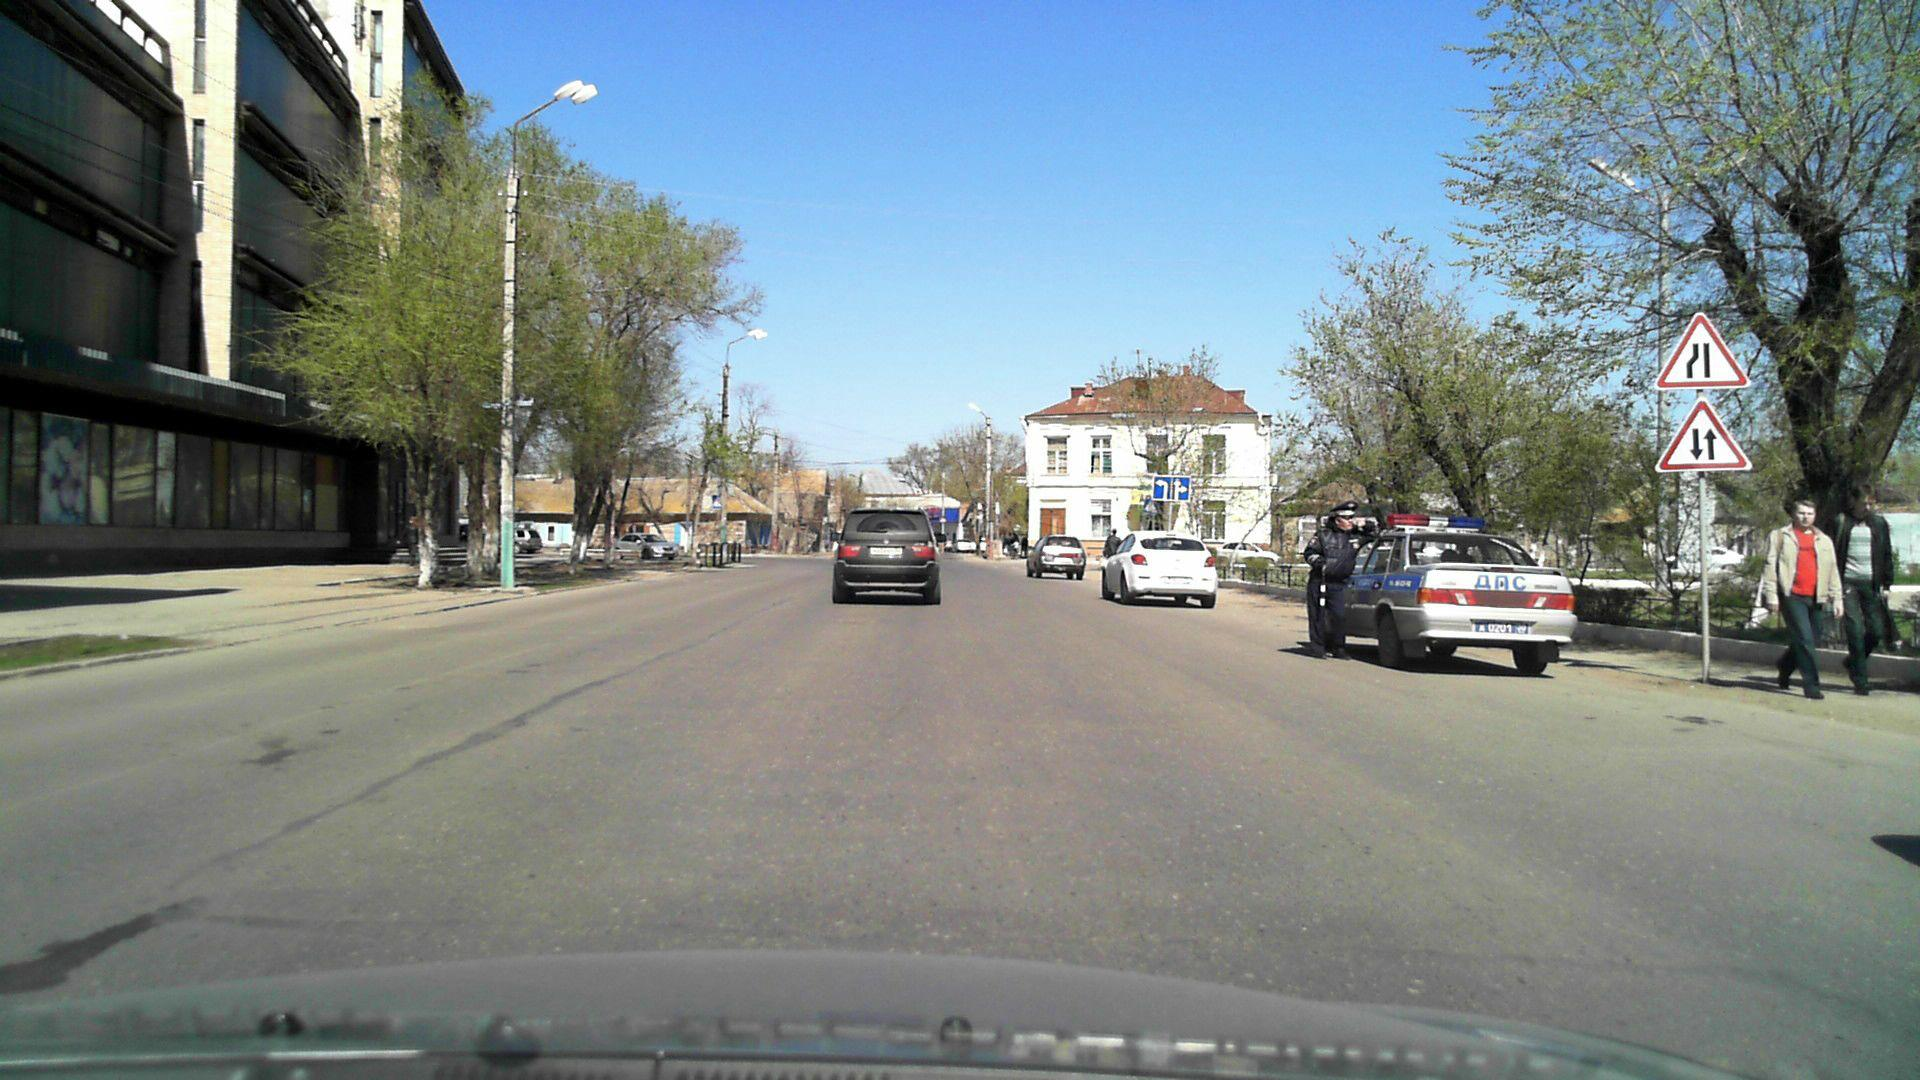1_20_3: (1644, 311, 1753, 394)
1_21: (1652, 400, 1753, 476)
5_15_1: (1146, 472, 1195, 504)
